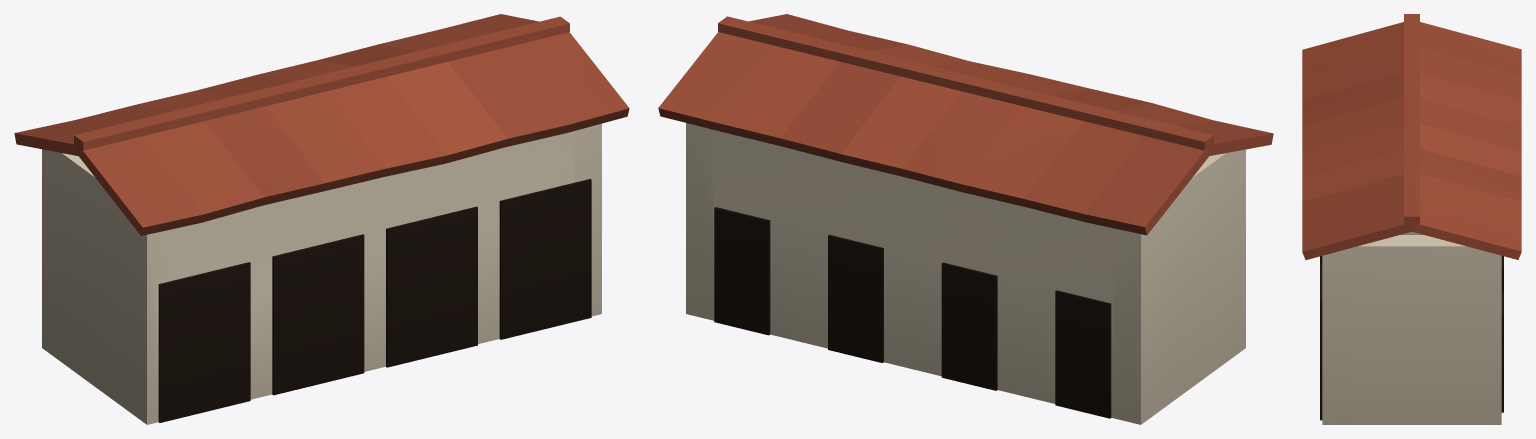
Rendered from colonial_portal_lod0.glb.
The picture shows the model from 3 angles, left to right: view 1: azimuth 30°, elevation 25°; view 2: azimuth 150°, elevation 25°; view 3: azimuth 270°, elevation 25°; orthographic projection. The views are drawn at different scales.
Parts seen in each view (by area): view 1: GEO-Arch_colonial_portal_LOD0; view 2: GEO-Arch_colonial_portal_LOD0; view 3: GEO-Arch_colonial_portal_LOD0.
Part boxes in pixels (bbox=[...]): GEO-Arch_colonial_portal_LOD0: bbox=[14, 14, 629, 424]; GEO-Arch_colonial_portal_LOD0: bbox=[658, 14, 1273, 424]; GEO-Arch_colonial_portal_LOD0: bbox=[1302, 14, 1521, 424].
Bounding box in the file's own units: 10.7 × 5.29 × 4.9.
